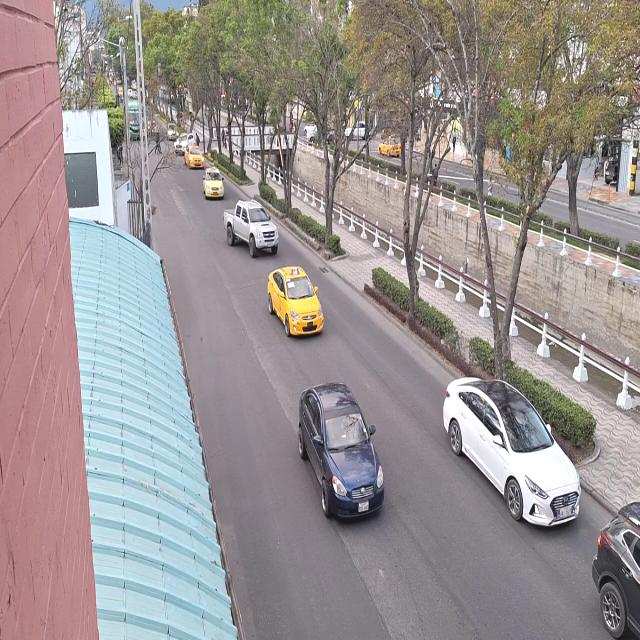CMT: (225, 198, 280, 254)
SED: (441, 373, 576, 531), (300, 387, 385, 519), (268, 267, 324, 338), (200, 164, 228, 203), (184, 144, 205, 168)
